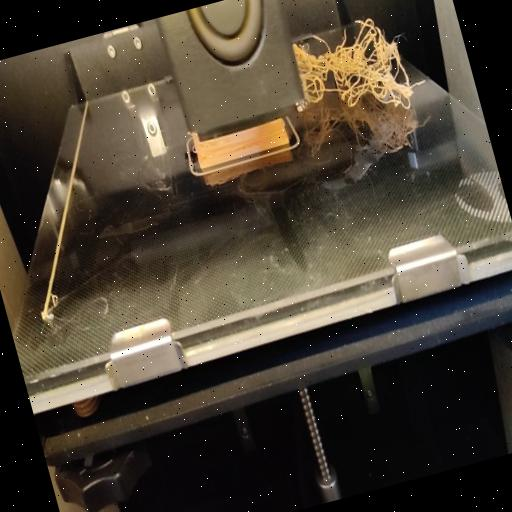spaghetti: (288, 4, 424, 130)
